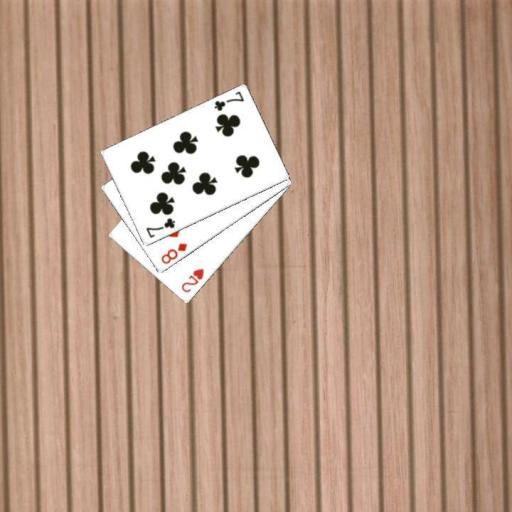card-corner: (143, 214, 176, 240), (212, 88, 246, 113), (158, 240, 188, 266), (178, 266, 205, 294)
